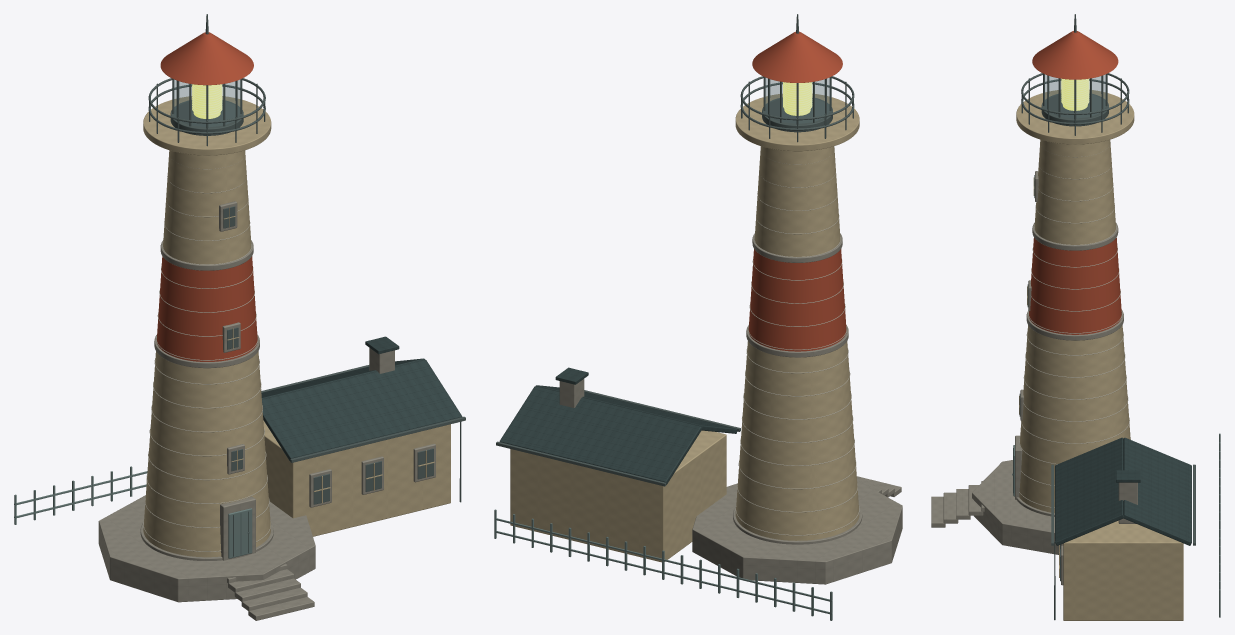
File: pacific-point.glb
The picture shows the model from 3 angles, left to right: view 1: azimuth 30°, elevation 25°; view 2: azimuth 150°, elevation 25°; view 3: azimuth 270°, elevation 25°; orthographic projection. The views are drawn at different scales.
Parts seen in each view (by area): view 1: Salt weathered ivory, Warm limestone, Slate shingles, Vermilion enamel, Bronze railings, Keeper door, Lighthouse masonry joints, Clear lantern panes, Lantern amber; view 2: Salt weathered ivory, Warm limestone, Slate shingles, Vermilion enamel, Bronze railings, Keeper door, Lighthouse masonry joints, Clear lantern panes, Lantern amber; view 3: Salt weathered ivory, Slate shingles, Vermilion enamel, Warm limestone, Bronze railings, Clear lantern panes, Lighthouse masonry joints, Lantern amber, Keeper door.
Boxes of the visible parts, bbox=[...] form: Salt weathered ivory: bbox=[143, 96, 450, 557]; Warm limestone: bbox=[98, 201, 435, 620]; Slate shingles: bbox=[261, 336, 462, 460]; Vermilion enamel: bbox=[156, 32, 257, 361]; Bronze railings: bbox=[148, 14, 465, 556]; Keeper door: bbox=[14, 466, 252, 558]; Lighthouse masonry joints: bbox=[143, 152, 271, 551]; Clear lantern panes: bbox=[174, 79, 240, 126]; Lantern amber: bbox=[192, 84, 222, 118]; Salt weathered ivory: bbox=[510, 93, 859, 562]; Warm limestone: bbox=[559, 233, 902, 584]; Slate shingles: bbox=[499, 367, 737, 484]; Vermilion enamel: bbox=[748, 31, 846, 351]; Bronze railings: bbox=[496, 14, 854, 486]; Keeper door: bbox=[494, 509, 832, 620]; Lighthouse masonry joints: bbox=[735, 152, 859, 535]; Clear lantern panes: bbox=[765, 78, 829, 123]; Lantern amber: bbox=[783, 82, 812, 115]; Salt weathered ivory: bbox=[1016, 89, 1183, 620]; Slate shingles: bbox=[1055, 437, 1191, 545]; Vermilion enamel: bbox=[1029, 31, 1121, 334]; Warm limestone: bbox=[931, 171, 1137, 585]; Bronze railings: bbox=[1012, 14, 1195, 620]; Clear lantern panes: bbox=[1044, 74, 1105, 117]; Lighthouse masonry joints: bbox=[1019, 142, 1130, 508]; Lantern amber: bbox=[1061, 78, 1089, 110]; Keeper door: bbox=[1013, 433, 1220, 617].
Size of the model in its own units: 15.9 by 22.91 by 12.01.
9 materials, 3 textured.
